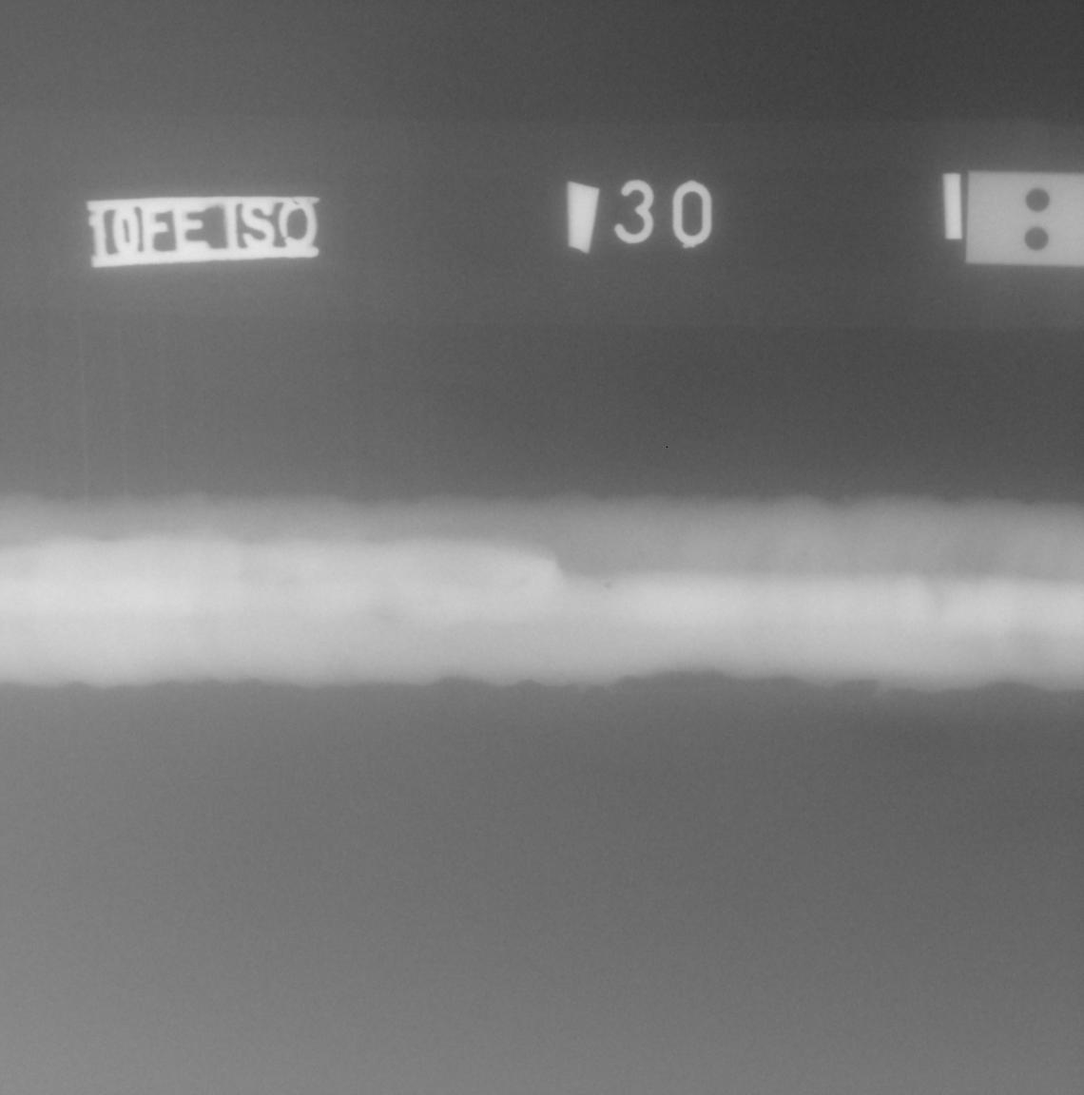Pore/Porosity: (604, 581, 612, 589), (638, 551, 642, 555), (610, 550, 613, 554)
